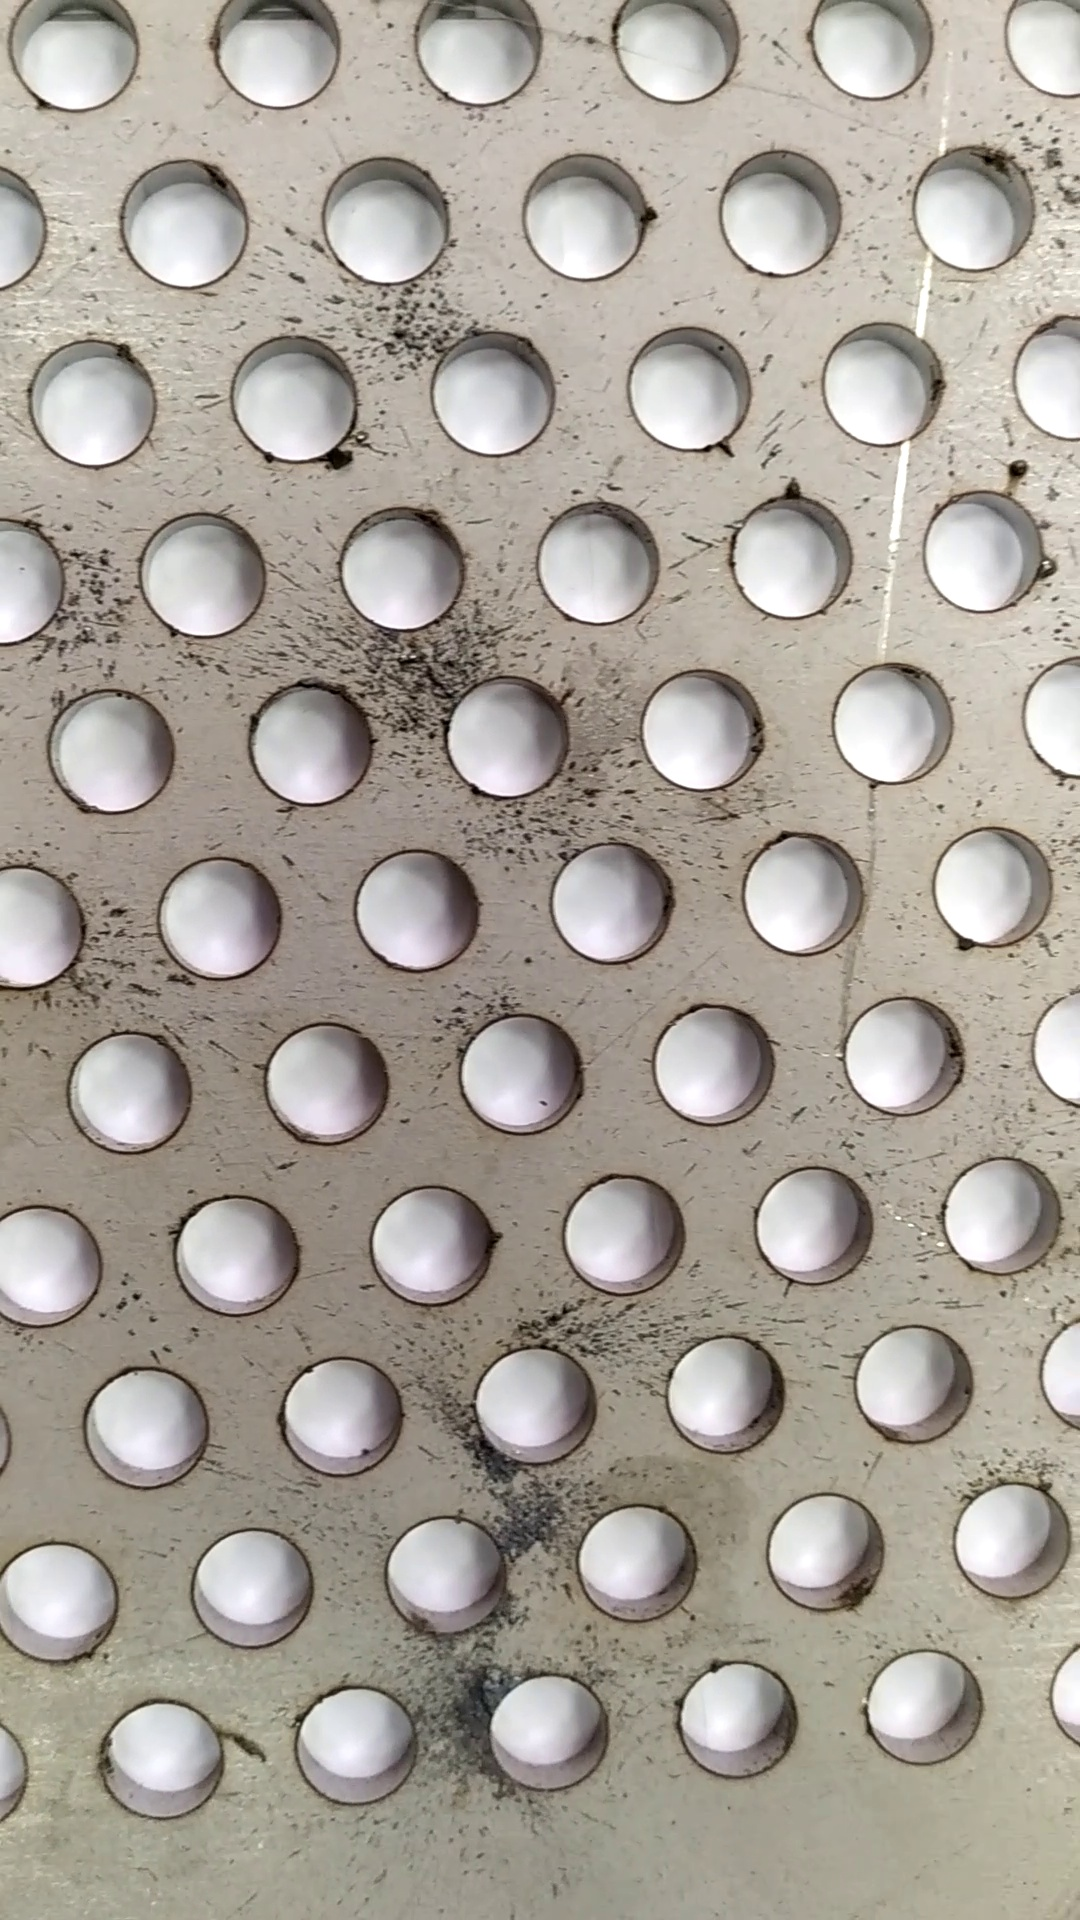Hole: (104, 148, 265, 303), (514, 140, 665, 291), (218, 332, 377, 473), (612, 322, 769, 464), (313, 146, 459, 295), (16, 324, 167, 468), (240, 670, 392, 814), (169, 1524, 332, 1658), (905, 131, 1047, 280), (469, 1660, 620, 1801), (131, 502, 281, 642), (444, 1007, 600, 1142), (626, 659, 783, 793), (71, 1358, 222, 1497), (708, 142, 849, 289), (913, 483, 1059, 624), (324, 501, 479, 634), (641, 993, 783, 1135), (731, 820, 872, 964), (419, 322, 564, 462), (269, 1350, 415, 1487), (91, 1691, 233, 1830), (247, 1015, 392, 1153), (359, 1179, 506, 1313), (541, 833, 684, 971), (57, 1022, 202, 1158), (465, 1338, 612, 1473), (149, 848, 291, 985), (167, 1185, 313, 1320), (814, 315, 953, 454), (663, 1327, 800, 1468), (438, 670, 583, 803), (377, 1511, 522, 1644), (41, 679, 183, 814), (820, 654, 959, 791), (347, 844, 487, 978), (756, 1485, 895, 1619), (934, 1145, 1071, 1280), (667, 1654, 808, 1785), (568, 1497, 705, 1629), (836, 992, 975, 1122), (857, 1640, 996, 1771), (553, 1170, 692, 1299), (849, 1319, 978, 1458), (723, 491, 857, 624), (920, 824, 1055, 957), (947, 1481, 1080, 1615), (749, 1162, 884, 1294), (287, 1679, 426, 1807), (531, 495, 663, 622)
